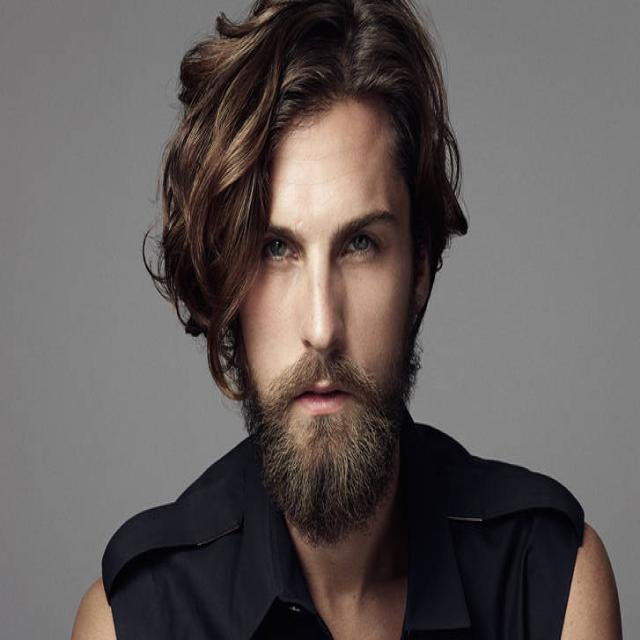human: (75, 7, 625, 640)
